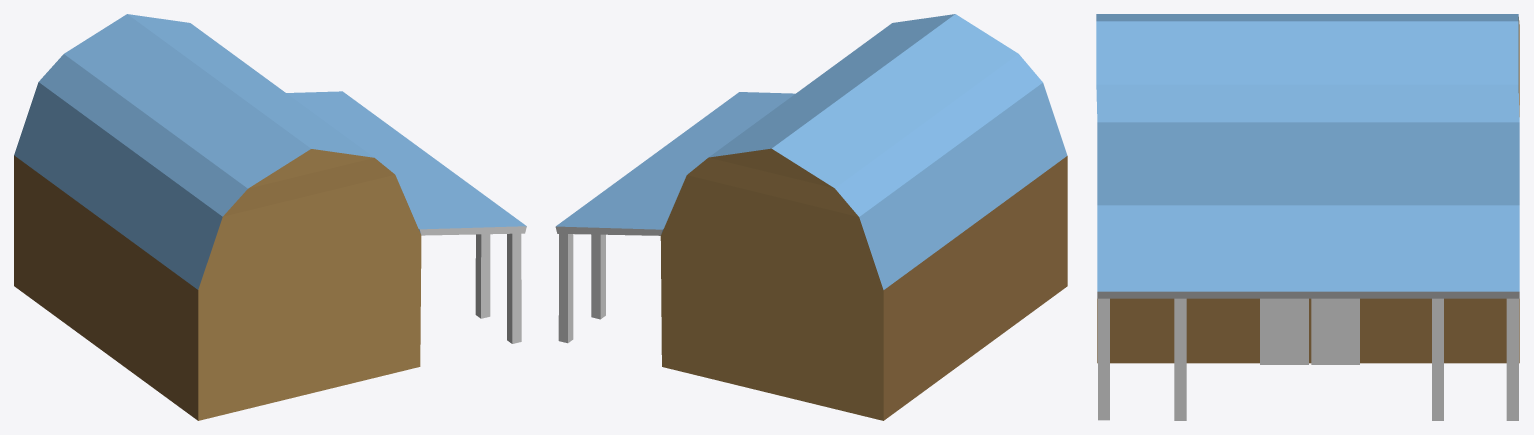
File: townHall.fbx
3 renders of one model, left to right at view 1: azimuth 30°, elevation 25°; view 2: azimuth 150°, elevation 25°; view 3: azimuth 270°, elevation 25°, orthographic. The views are drawn at different scales.
Visible parts, largest first — view 1: Cube; view 2: Cube; view 3: Cube, Cube.001, Cube.002.
Boxes of the visible parts, x1,y1,x2,y2 form: Cube: [14, 14, 526, 420]; Cube: [555, 14, 1067, 420]; Cube: [1096, 14, 1519, 420]; Cube.001: [1260, 298, 1308, 364]; Cube.002: [1311, 298, 1359, 364].
Bounding box in the file's own units: 356 × 254 × 346.
